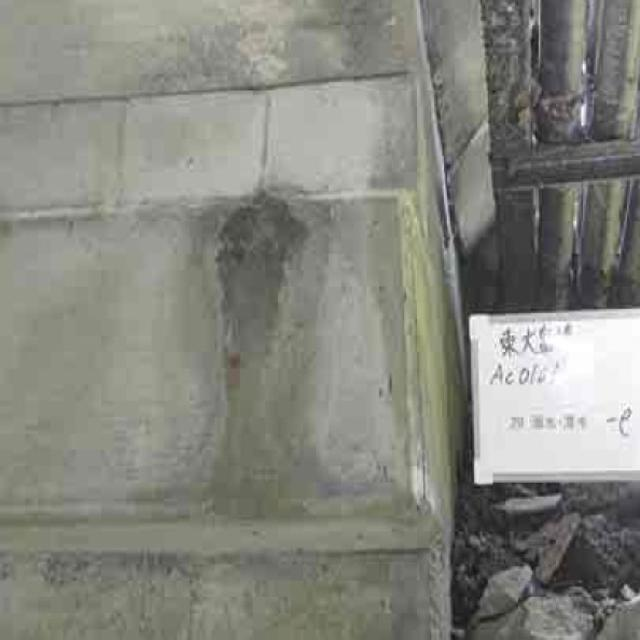crack: (188, 187, 302, 412)
